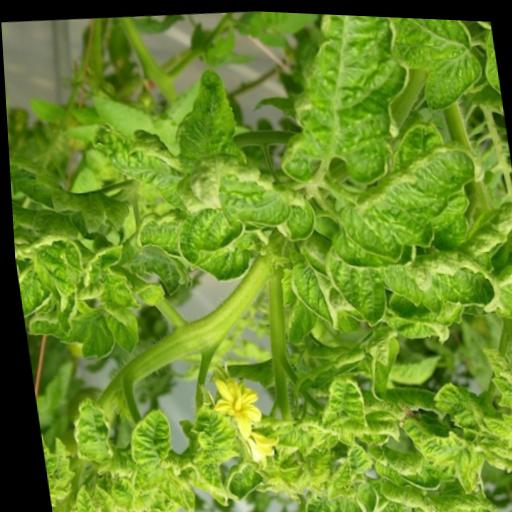Yellow Leaf Curl Virus: (262, 9, 420, 191), (330, 129, 487, 254), (121, 174, 254, 301), (160, 64, 253, 211), (375, 13, 488, 118), (204, 142, 316, 240), (309, 224, 414, 328), (84, 120, 181, 216), (404, 238, 502, 322), (284, 440, 377, 512), (388, 401, 480, 471), (272, 244, 346, 325), (13, 227, 88, 305), (300, 368, 370, 447), (179, 381, 237, 467), (353, 325, 404, 404), (60, 391, 111, 468), (117, 399, 171, 471), (422, 375, 480, 439), (12, 265, 54, 325), (214, 455, 261, 502), (101, 474, 135, 512), (56, 480, 96, 512)
